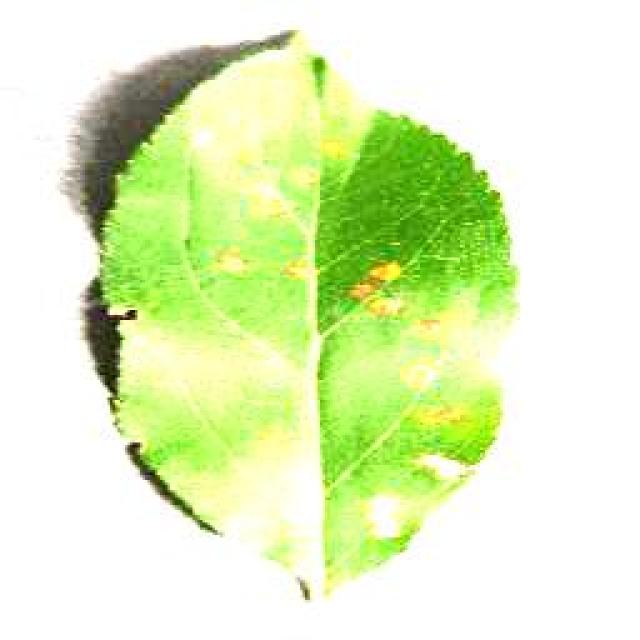Apple___Cedar_apple_rust: (91, 21, 527, 612)
